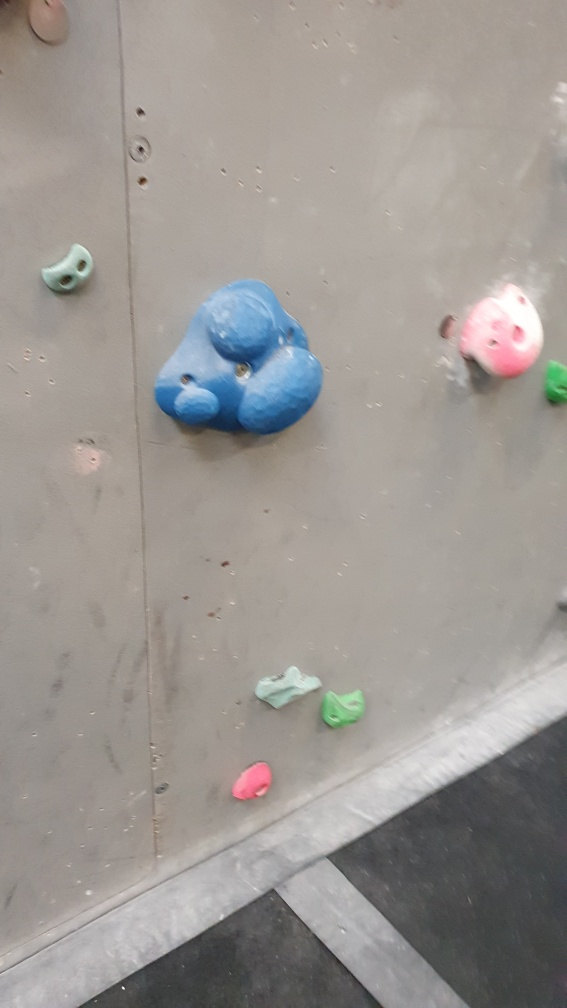Sloper: (152, 278, 323, 437)
